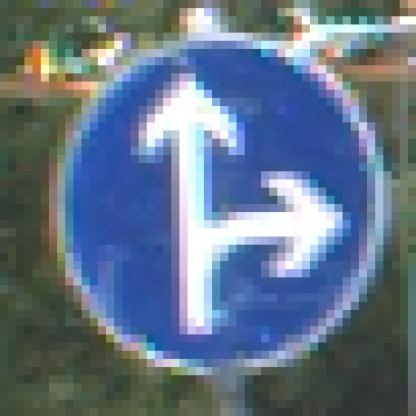Straight or Right: (42, 42, 376, 376)
